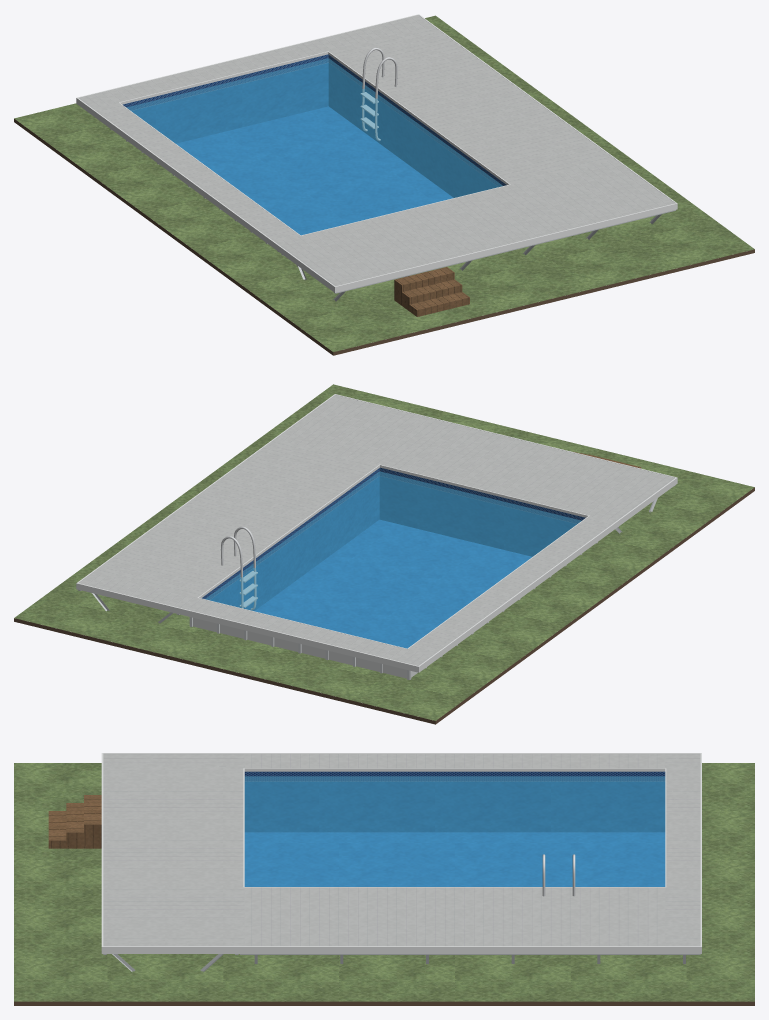
File: kayak-pool-16x24-white-endside-rec-nofence.27a56454d2.glb
The picture shows the model from 3 angles, top to bottom: view 1: azimuth 30°, elevation 25°; view 2: azimuth 150°, elevation 25°; view 3: azimuth 270°, elevation 25°; orthographic projection. The views are drawn at different scales.
Parts seen in each view (by area): view 1: deck, ground, water, liner_floor, liner_wall, fascia, soil, steps, steel, stud; view 2: deck, ground, water, liner_floor, liner_wall, fascia, soil, wall, steel; view 3: deck, ground, water, liner_wall, liner_floor, fascia, soil, steps, stud.
Part boxes in pixels (x1,y1,x2,y2): deck: [78, 15, 675, 286]; ground: [14, 15, 754, 351]; water: [126, 58, 502, 234]; liner_floor: [176, 106, 453, 235]; liner_wall: [123, 54, 506, 197]; fascia: [76, 14, 677, 292]; soil: [14, 119, 754, 355]; steps: [394, 267, 469, 316]; steel: [360, 47, 397, 140]; stud: [277, 210, 675, 301]; deck: [78, 395, 674, 665]; ground: [14, 384, 754, 720]; water: [205, 471, 581, 648]; liner_floor: [255, 520, 531, 648]; liner_wall: [201, 467, 585, 610]; fascia: [76, 394, 677, 672]; soil: [14, 487, 754, 724]; wall: [193, 617, 417, 678]; steel: [220, 526, 257, 610]; deck: [103, 754, 700, 946]; ground: [14, 763, 754, 1001]; water: [244, 776, 665, 886]; liner_wall: [244, 771, 665, 832]; liner_floor: [244, 832, 665, 886]; fascia: [101, 753, 701, 953]; soil: [14, 1001, 754, 1005]; steps: [48, 795, 101, 848]; stud: [103, 954, 700, 971].
Bounding box in the file's own units: 9.75 × 1.9 × 12.79.
Materials: 12 (5 with a texture image).
